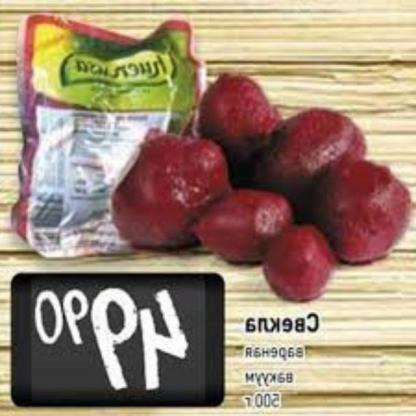beet: (105, 128, 233, 257), (300, 154, 410, 272), (254, 105, 367, 204), (196, 68, 286, 174), (185, 183, 293, 266), (264, 224, 335, 308)
